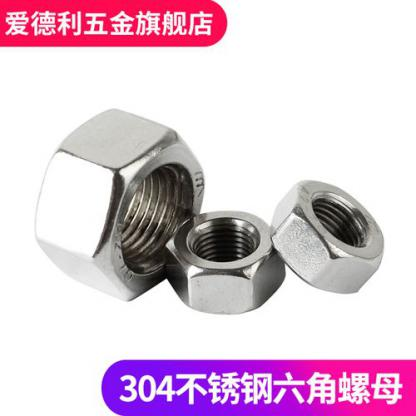FOD: (27, 106, 211, 303), (268, 176, 388, 296), (163, 209, 286, 317)
